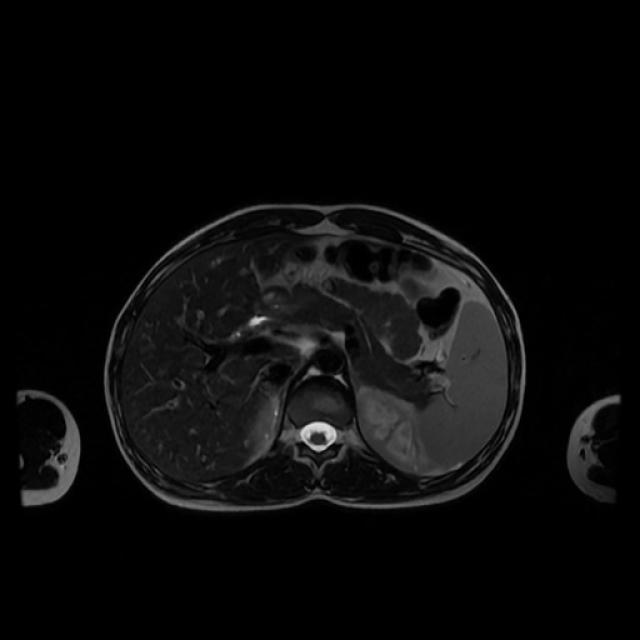sag: (252, 400, 272, 450)
sol: (356, 387, 432, 471)
